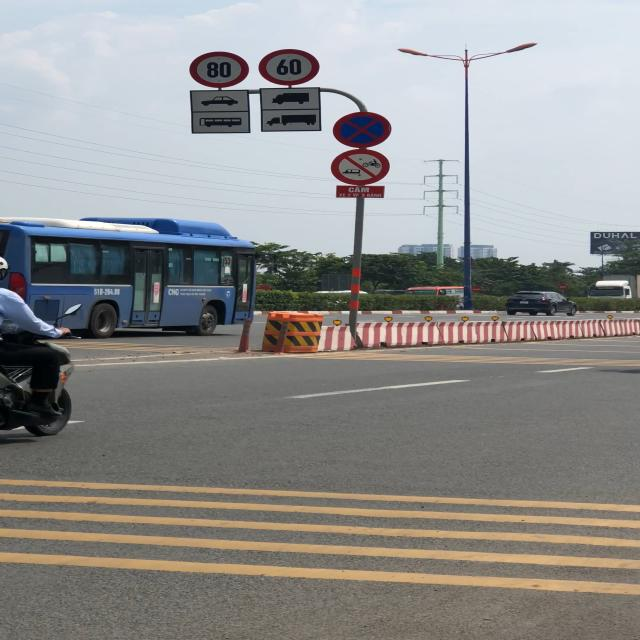Bien bao cam dung xe va do xe: (331, 110, 393, 150)
Bien bao toc do toi da cho phep: (256, 47, 322, 88), (188, 51, 253, 88)
